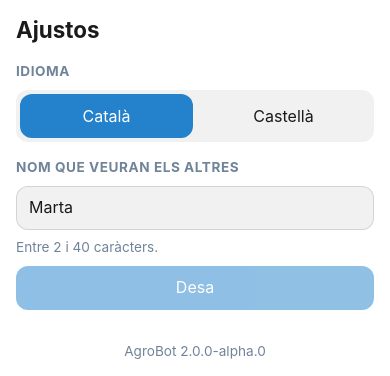
Test case: Settings screen (PRD US-1.5) › switches the language instantly and persists it
Check: the heading "Ajustos" is shown, box 16,16 -> 100,43
Click the radio button labelled "Castellà" at {"x": 284, "y": 116}, box 197,94 -> 370,138
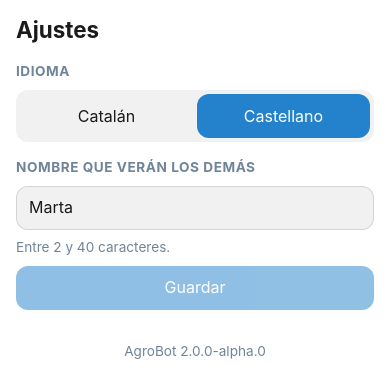
Check: the heading "Ajustes" is shown, box 16,16 -> 99,43
